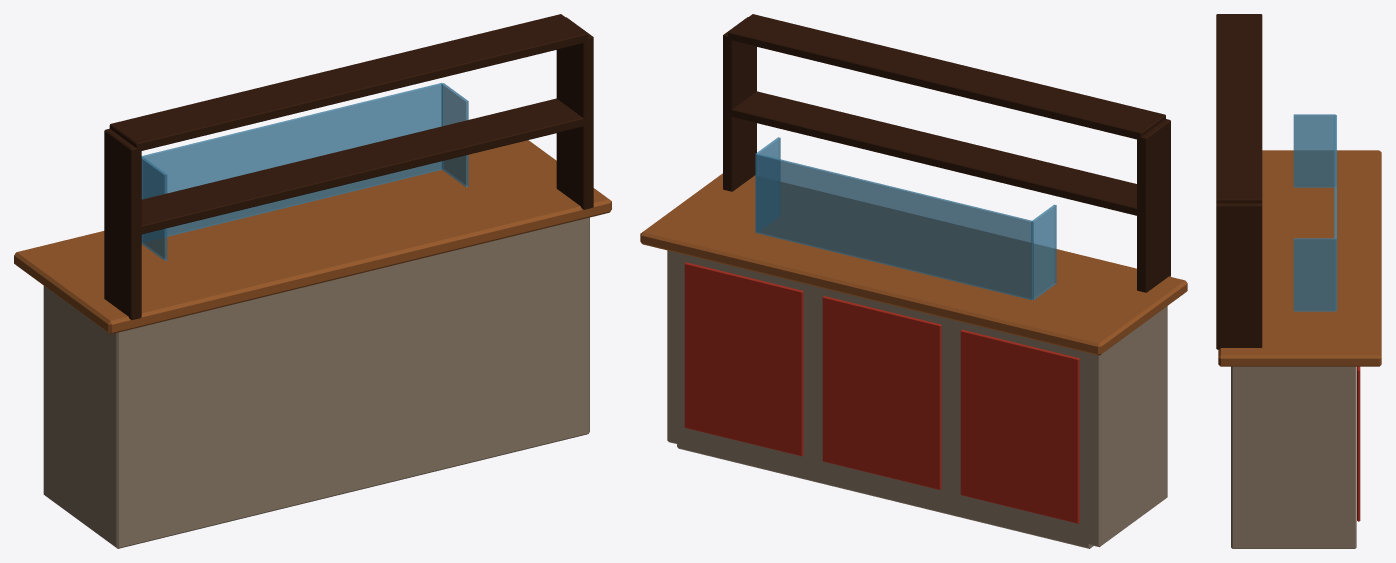
Rendered from INTERIOR_07_CommercialCounter.obj.
3 renders of one model, left to right at view 1: azimuth 30°, elevation 25°; view 2: azimuth 150°, elevation 25°; view 3: azimuth 270°, elevation 25°, orthographic. The views are drawn at different scales.
Parts seen in each view (by area): view 1: INTERIOR_07_CommercialCounter_Counter_Body, INTERIOR_07_CommercialCounter_Counter_Top, INTERIOR_07_CommercialCounter_Back_Shelf, INTERIOR_07_CommercialCounter_Display_Glass; view 2: INTERIOR_07_CommercialCounter_Front_Panel, INTERIOR_07_CommercialCounter_Counter_Top, INTERIOR_07_CommercialCounter_Counter_Body, INTERIOR_07_CommercialCounter_Back_Shelf, INTERIOR_07_CommercialCounter_Display_Glass; view 3: INTERIOR_07_CommercialCounter_Counter_Top, INTERIOR_07_CommercialCounter_Counter_Body, INTERIOR_07_CommercialCounter_Back_Shelf, INTERIOR_07_CommercialCounter_Display_Glass, INTERIOR_07_CommercialCounter_Front_Panel.
Part boxes in pixels (<box>): INTERIOR_07_CommercialCounter_Counter_Body: <box>43,217,589,548</box>; INTERIOR_07_CommercialCounter_Counter_Top: <box>14,140,611,334</box>; INTERIOR_07_CommercialCounter_Back_Shelf: <box>104,14,593,320</box>; INTERIOR_07_CommercialCounter_Display_Glass: <box>141,83,468,260</box>; INTERIOR_07_CommercialCounter_Front_Panel: <box>684,262,1079,523</box>; INTERIOR_07_CommercialCounter_Counter_Top: <box>640,173,1187,355</box>; INTERIOR_07_CommercialCounter_Counter_Body: <box>667,250,1167,548</box>; INTERIOR_07_CommercialCounter_Back_Shelf: <box>723,14,1170,292</box>; INTERIOR_07_CommercialCounter_Display_Glass: <box>755,137,1056,300</box>; INTERIOR_07_CommercialCounter_Counter_Top: <box>1218,150,1381,366</box>; INTERIOR_07_CommercialCounter_Counter_Body: <box>1231,366,1356,548</box>; INTERIOR_07_CommercialCounter_Back_Shelf: <box>1216,14,1262,349</box>; INTERIOR_07_CommercialCounter_Display_Glass: <box>1293,114,1336,311</box>; INTERIOR_07_CommercialCounter_Front_Panel: <box>1357,366,1360,521</box>.
Bounding box in the file's own units: 2.34 × 1.84 × 0.79.
